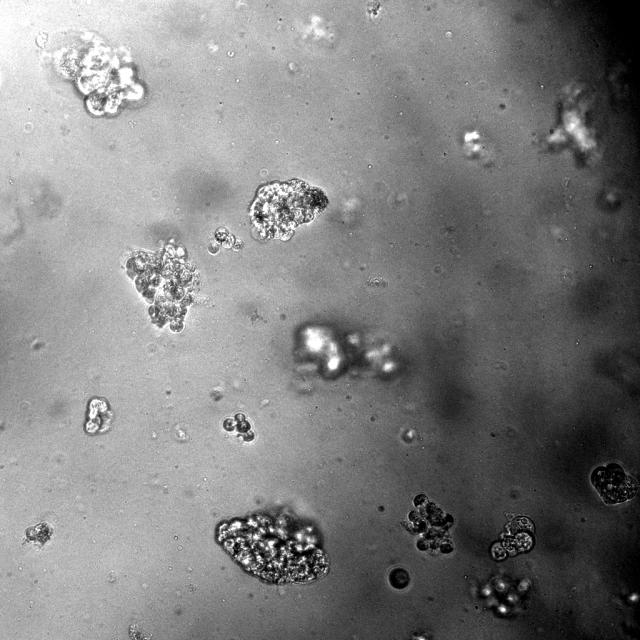organoid: (37, 28, 149, 119), (216, 504, 329, 585), (124, 240, 200, 332), (294, 324, 399, 379), (248, 178, 328, 242), (543, 83, 599, 164), (402, 493, 454, 555), (476, 574, 531, 617), (489, 514, 535, 561), (591, 463, 638, 505), (83, 396, 112, 435), (222, 412, 256, 443), (207, 227, 243, 255), (26, 522, 52, 544), (388, 566, 410, 589)
